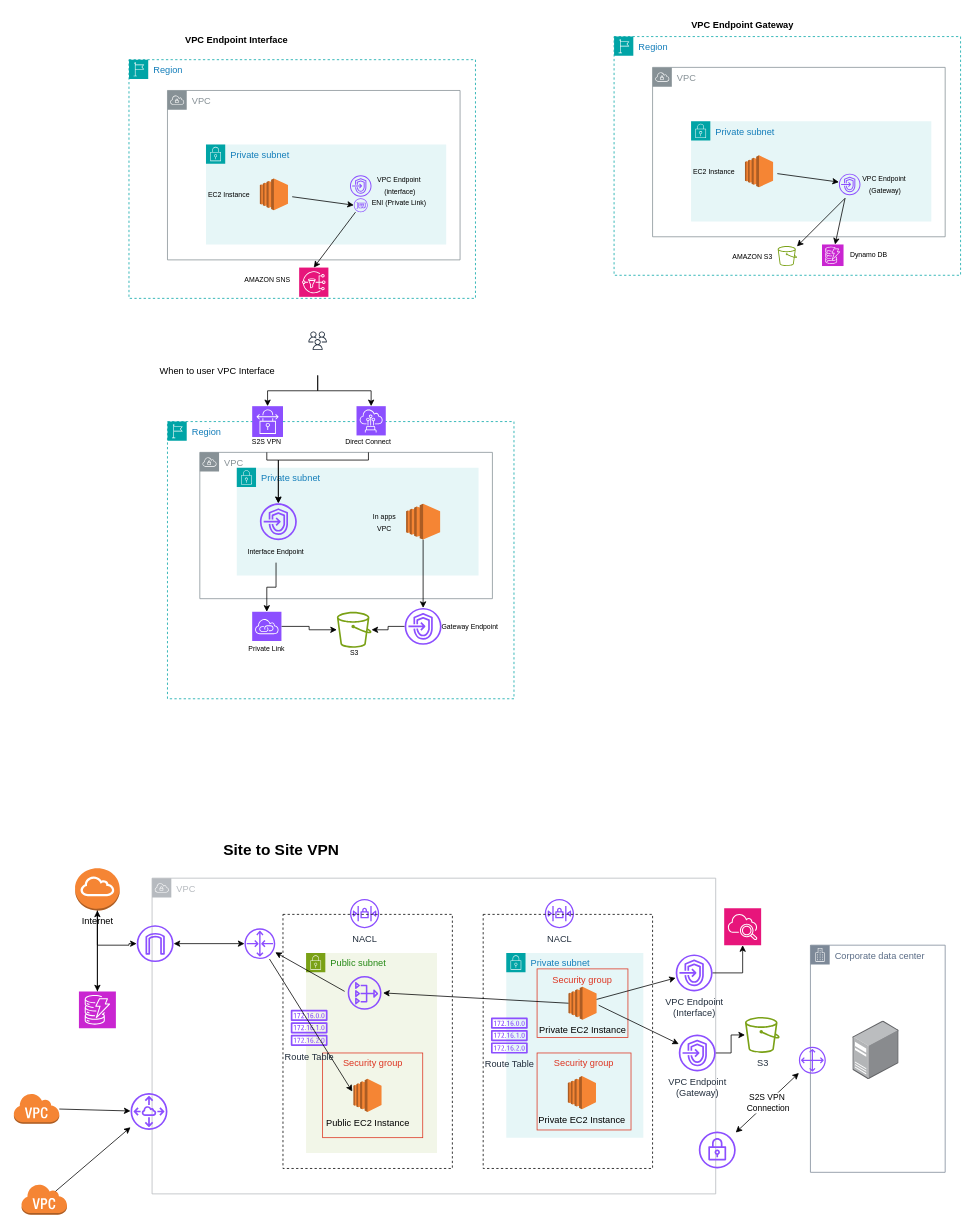
Image size: 974x1228. Some labels were removed from this diagram. Each missing label, with the centre of its shape:
"CloudWatch" goes at pixel 742 926.
"DynamoDB" goes at pixel 97 1009.
"NAT GATEWAY" goes at pixel 364 992.
"Router" goes at pixel 259 943.
"Users" goes at pixel 317 340.
"VPC Peering Connection" goes at pixel 148 1111.
"VPN Gateway" goes at pixel 716 1149.
